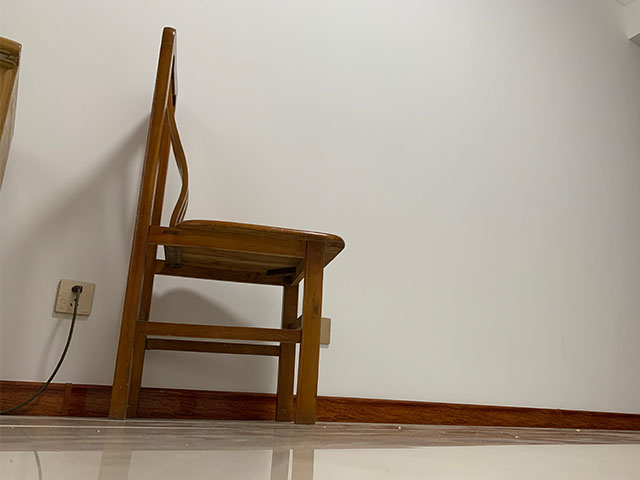stool: (105, 24, 347, 426)
wire: (1, 283, 85, 417)
